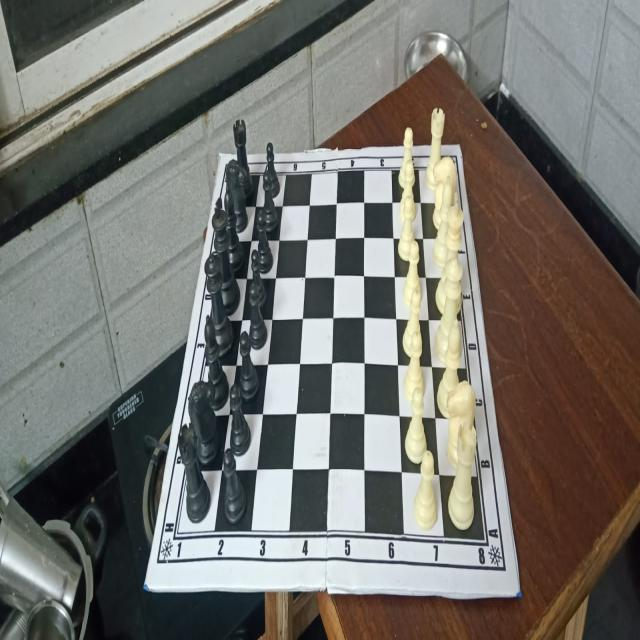corners: (135, 568, 154, 603), (510, 579, 526, 605), (451, 137, 465, 161), (214, 146, 227, 164)
